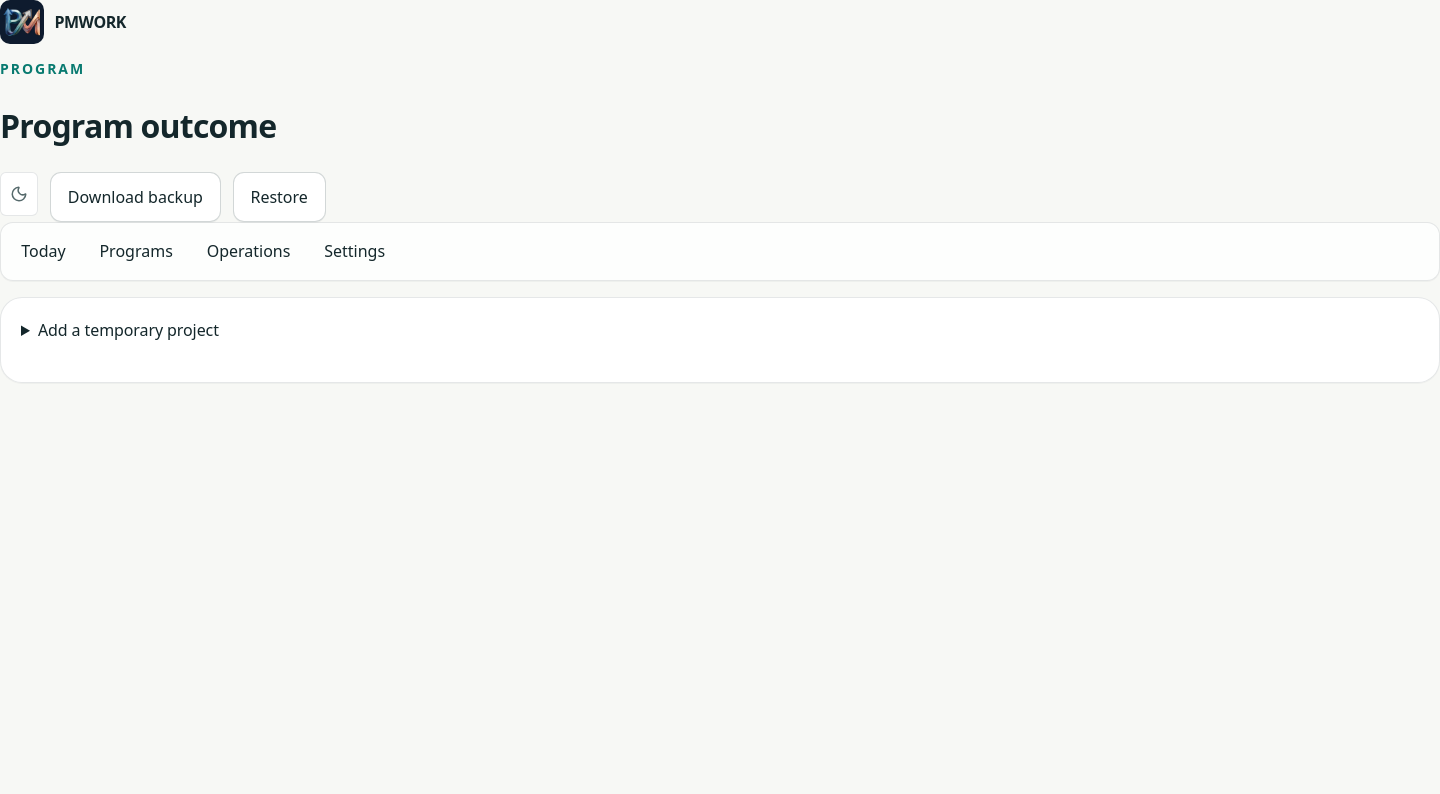
Test case: shows the active operation name when switching away from a selected program
Expected: the heading "Program outcome" is shown, [0, 104, 276, 147]
Step 1. Click the button "Operations" → (248,251), box [192, 229, 304, 274]
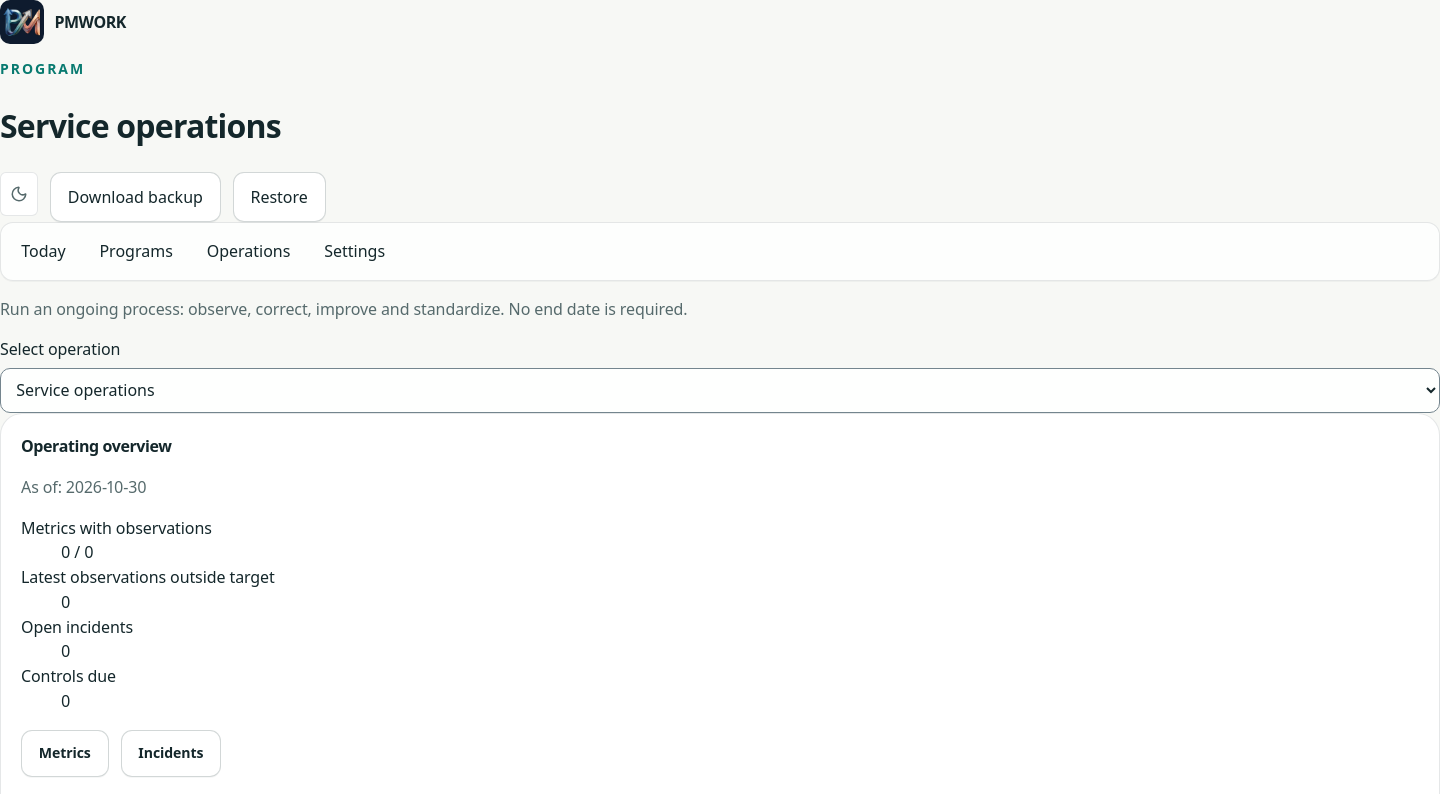
Expected: the heading "Service operations" is shown, [0, 104, 281, 147]
